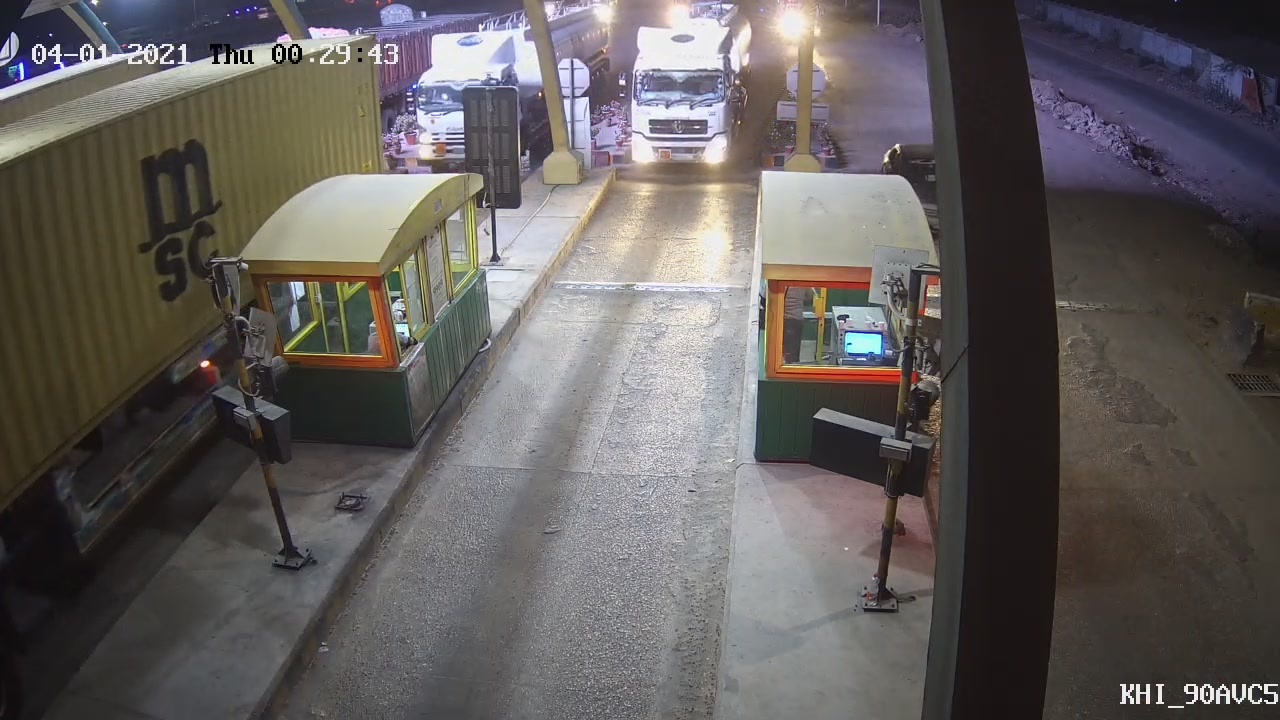F5: (608, 16, 765, 165)
